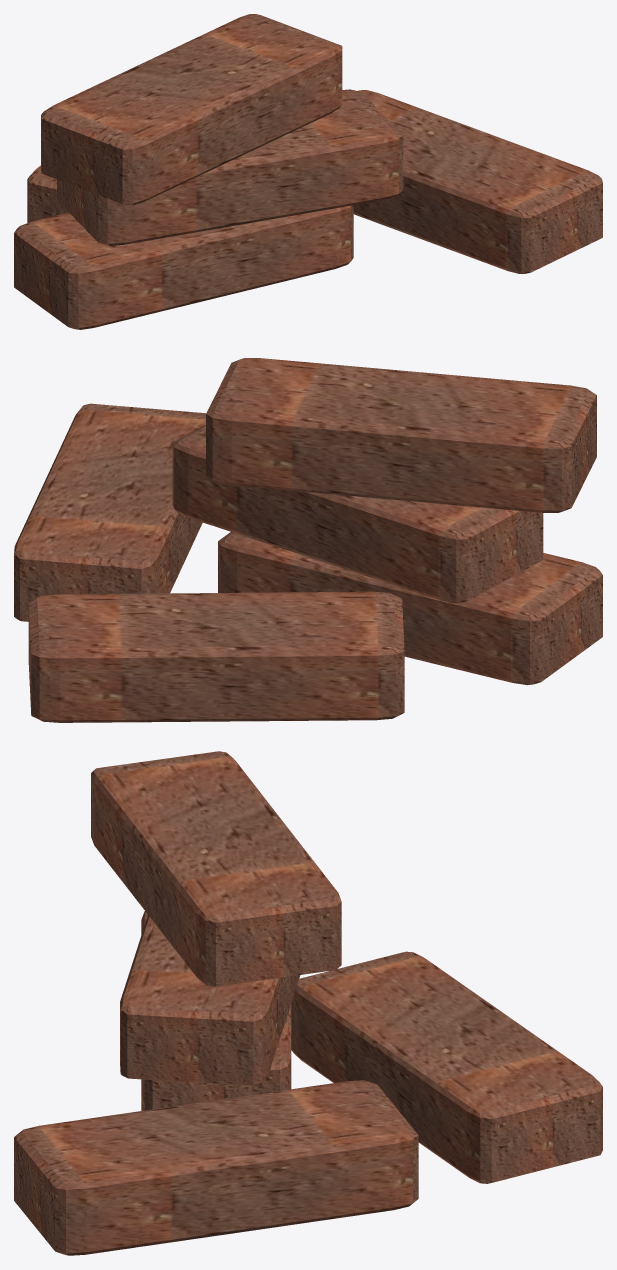
Rendered from bricks1.glb.
3 renders of one model, top to bottom at view 1: azimuth 30°, elevation 25°; view 2: azimuth 150°, elevation 25°; view 3: azimuth 270°, elevation 25°, orthographic. The views are drawn at different scales.
Visible parts, largest first — view 1: Cube.313; view 2: Cube.313; view 3: Cube.313.
Part boxes in pixels (box(x1,y1,x2,y2)): Cube.313: box(14, 14, 602, 329); Cube.313: box(14, 358, 602, 722); Cube.313: box(14, 751, 602, 1255).
Size of the model in its own units: 5.46 by 2.14 by 4.81.
1 material, 1 textured.
